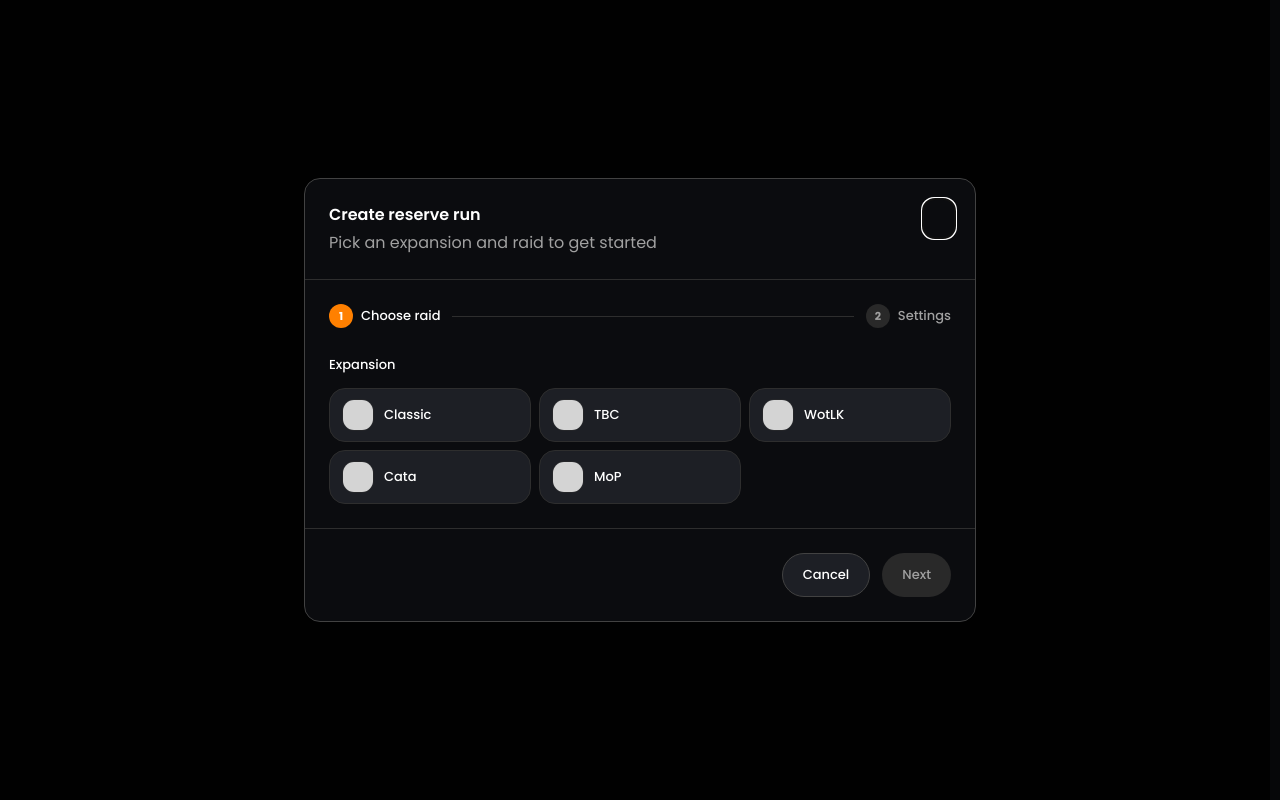
CreateReserveRunModal, Forever vs Classic wording (EW-C8, EW-C9) › Guild object with no game field behaves like Classic: shows the Expansion tiles and, after picking one, the Classic empty state
Expected: the text "Pick an expansion and raid to get started" is shown, [329,231,657,254]
Expected: the text "Expansion" is shown, [329,355,396,374]
Click the button "Classic". click: click(430, 415)
box: [329,388,531,442]
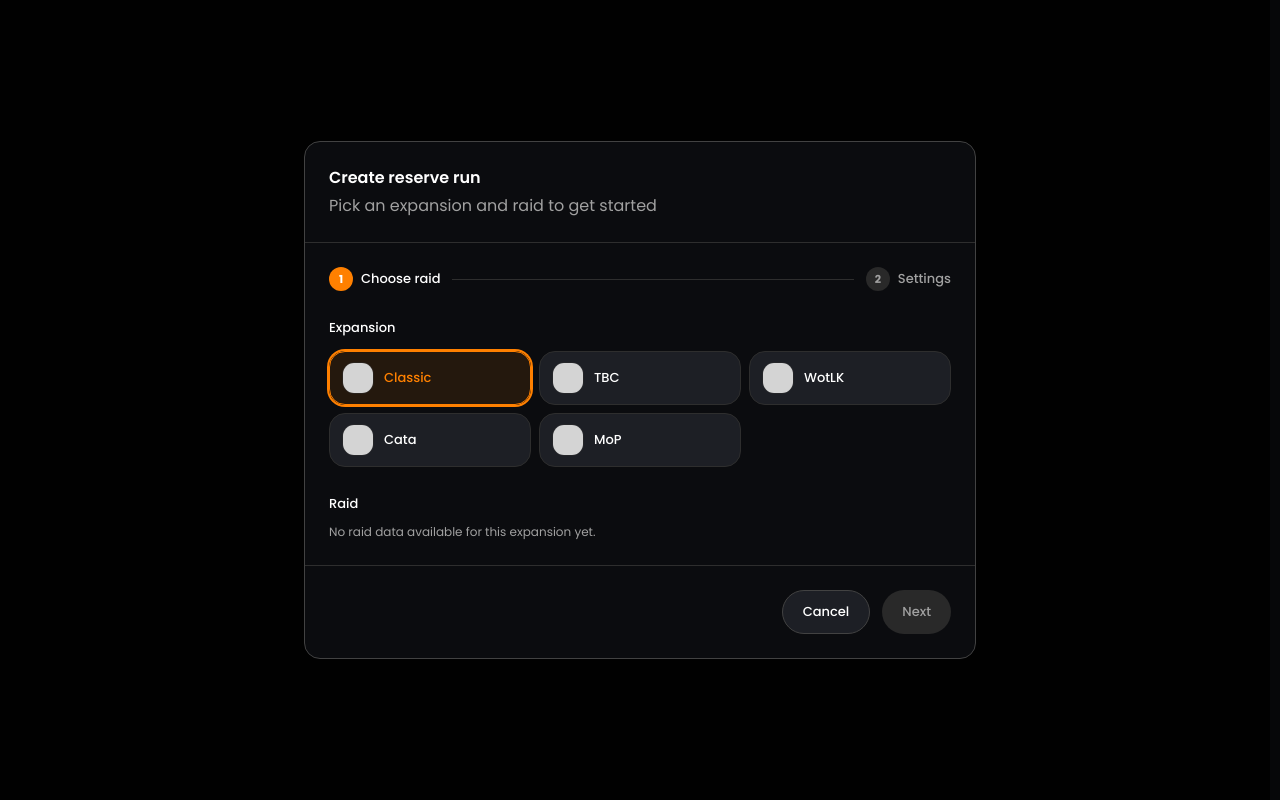
Result: the text "No raid data available for this expansion yet." is shown at [329,523,596,540]
